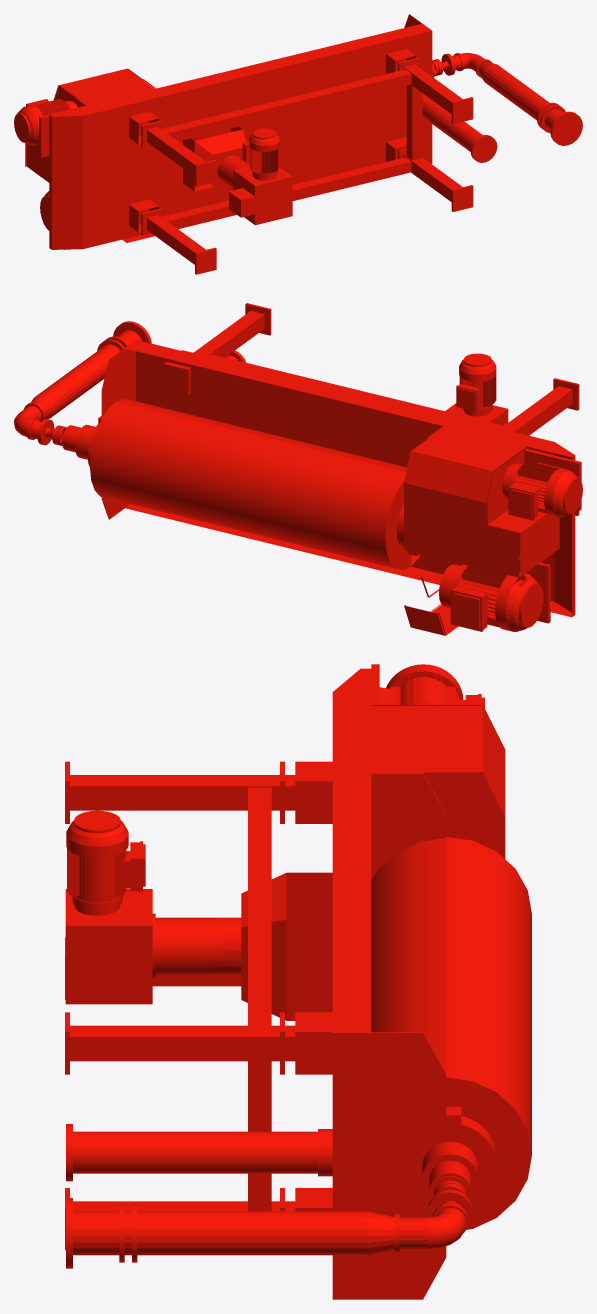
The model's file is decanter_red.glb.
The picture shows the model from 3 angles, top to bottom: view 1: azimuth 30°, elevation 25°; view 2: azimuth 150°, elevation 25°; view 3: azimuth 270°, elevation 25°; orthographic projection. The views are drawn at different scales.
Parts seen in each view (by area): view 1: Object_3; view 2: Object_3; view 3: Object_3.
Part boxes in pixels (left/top/right/bottom): Object_3: left=14, top=14, right=582, bottom=274; Object_3: left=14, top=303, right=582, bottom=635; Object_3: left=65, top=664, right=531, bottom=1299.
Bounding box in the file's own units: 116 × 34.62 × 49.76.
